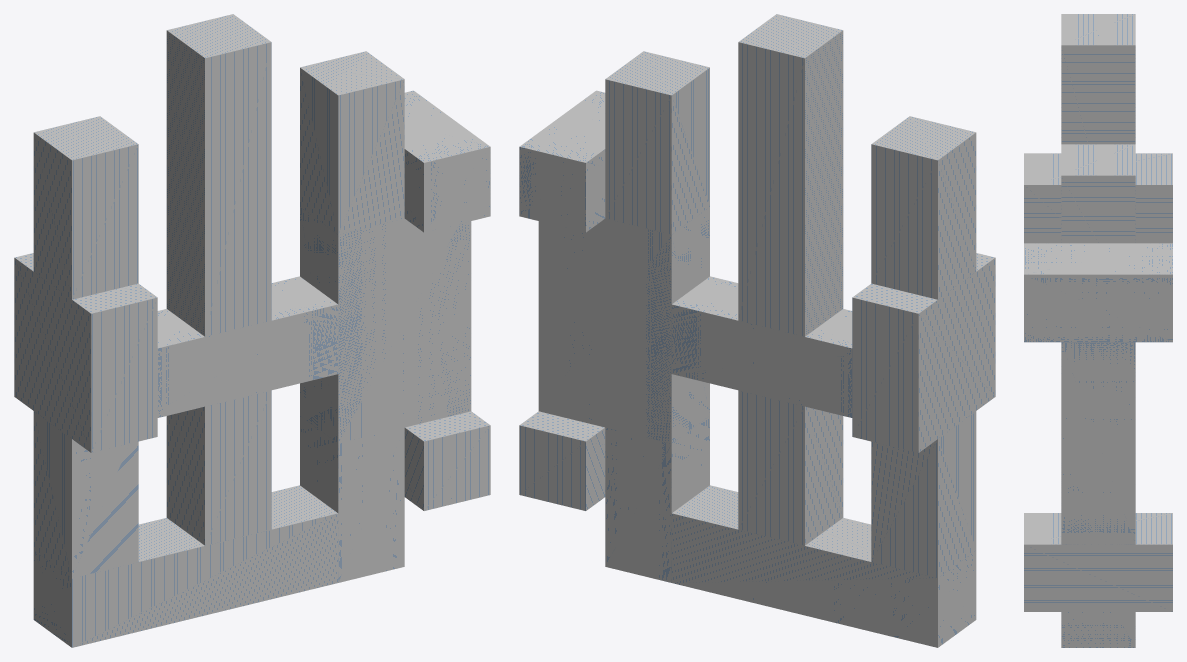
Rendered from iron-gate.fbx.
3 renders of one model, left to right at view 1: azimuth 30°, elevation 25°; view 2: azimuth 150°, elevation 25°; view 3: azimuth 270°, elevation 25°, orthographic. The views are drawn at different scales.
Parts seen in each view (by area): view 1: generated; view 2: generated; view 3: generated.
Part boxes in pixels (x1,y1,x2,y2): generated: (14,14,490,647); generated: (519,14,995,647); generated: (1024,14,1172,647).
Size of the model in its own units: 60 by 80 by 20.
Materials: 1 (1 with a texture image).
